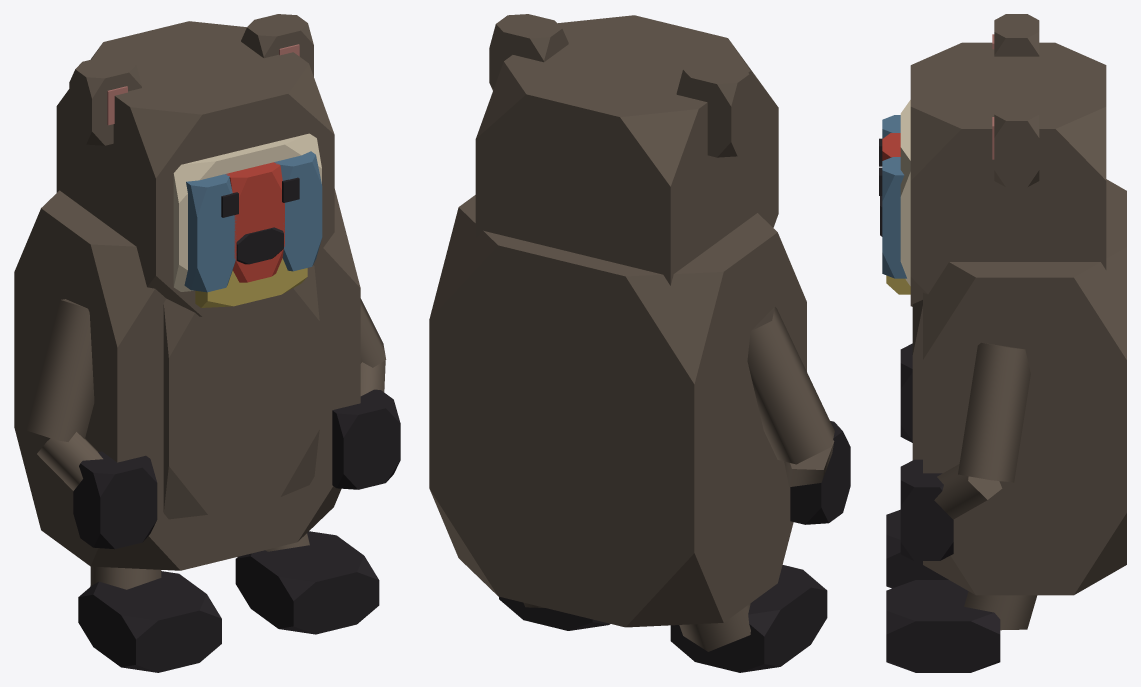
Rendered from original-mandrill.glb.
3 renders of one model, left to right at view 1: azimuth 30°, elevation 25°; view 2: azimuth 150°, elevation 25°; view 3: azimuth 270°, elevation 25°, orthographic. The views are drawn at different scales.
Parts seen in each view (by area): view 1: mandrill; view 2: mandrill; view 3: mandrill.
Boxes of the visible parts, x1,y1,x2,y2 form: mandrill: (14, 14, 400, 672); mandrill: (429, 14, 850, 672); mandrill: (879, 14, 1126, 672).
Bounding box in the file's own units: 0.9974 × 1.48 × 0.6075.
